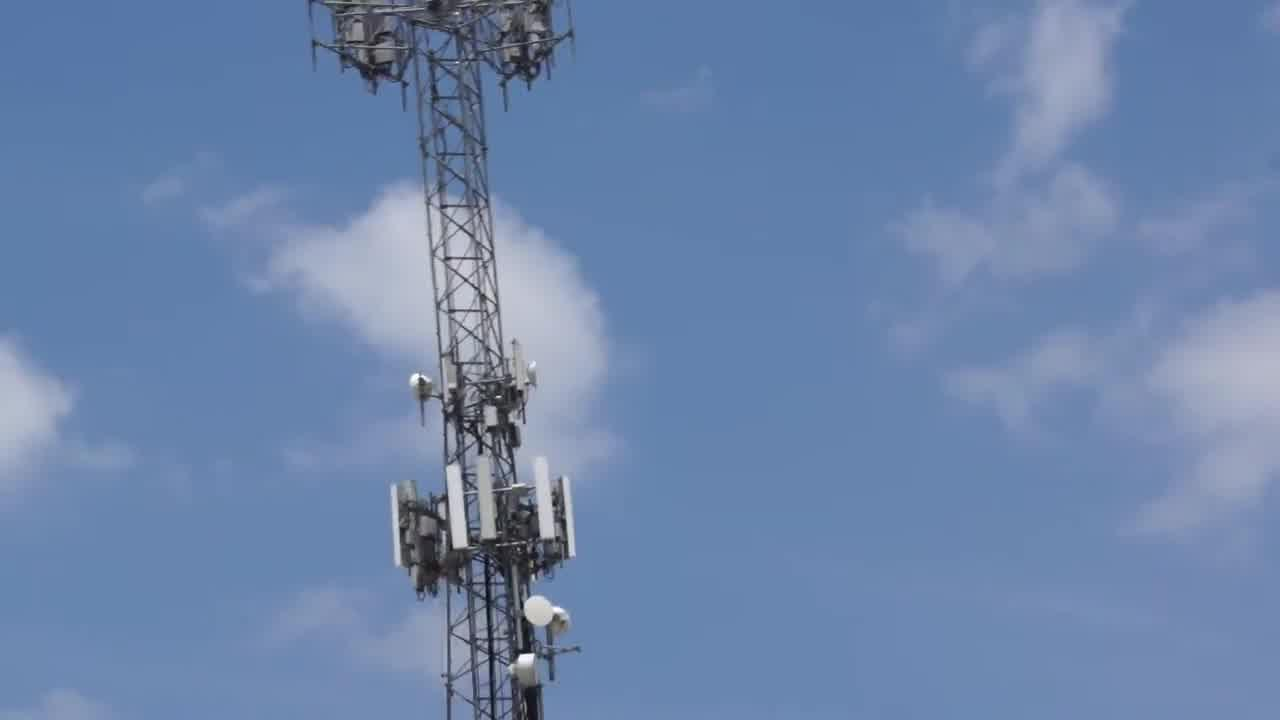Microwave Antenna: (408, 367, 441, 412), (522, 589, 557, 627), (513, 653, 546, 693), (551, 605, 583, 641), (526, 361, 545, 392)
antenna: (444, 461, 473, 554), (532, 451, 560, 543), (476, 452, 500, 542), (392, 482, 414, 577), (559, 476, 582, 565), (512, 338, 529, 396)
